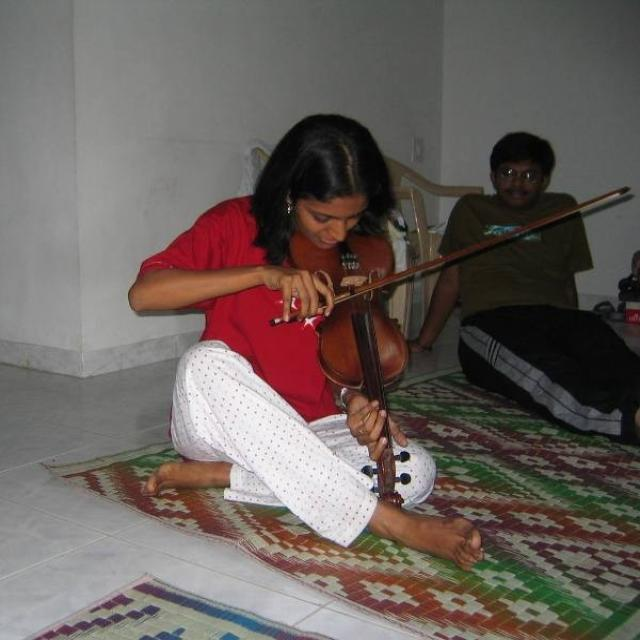violin: (284, 229, 406, 516)
